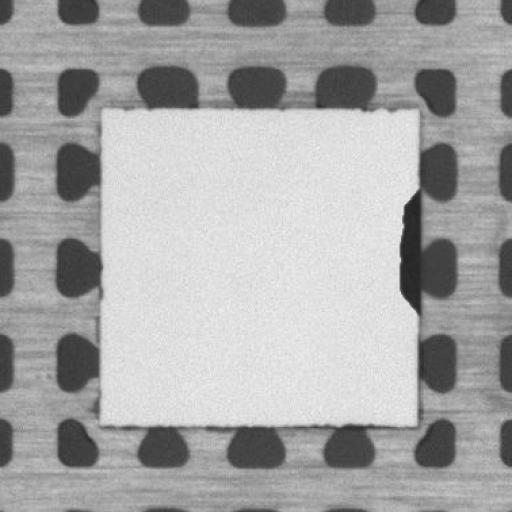DIE_BROKEN: (394, 189, 423, 312)
